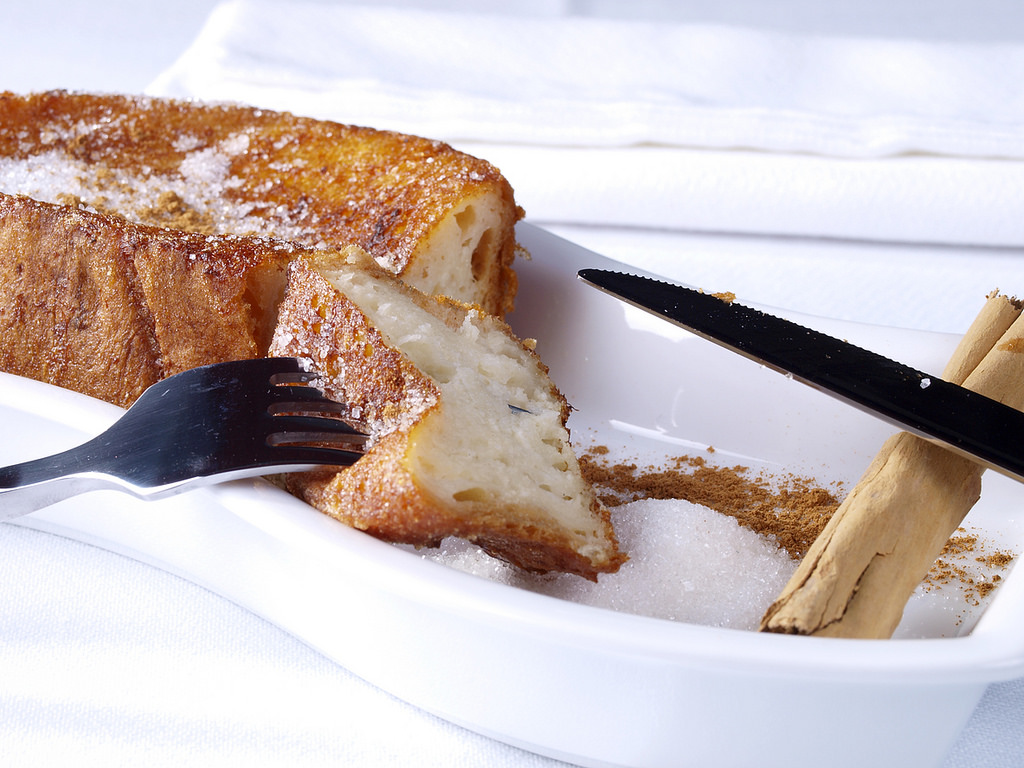slice of bread: (45, 112, 586, 427)
